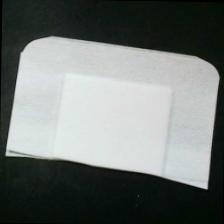Cut: (1, 32, 223, 203)
